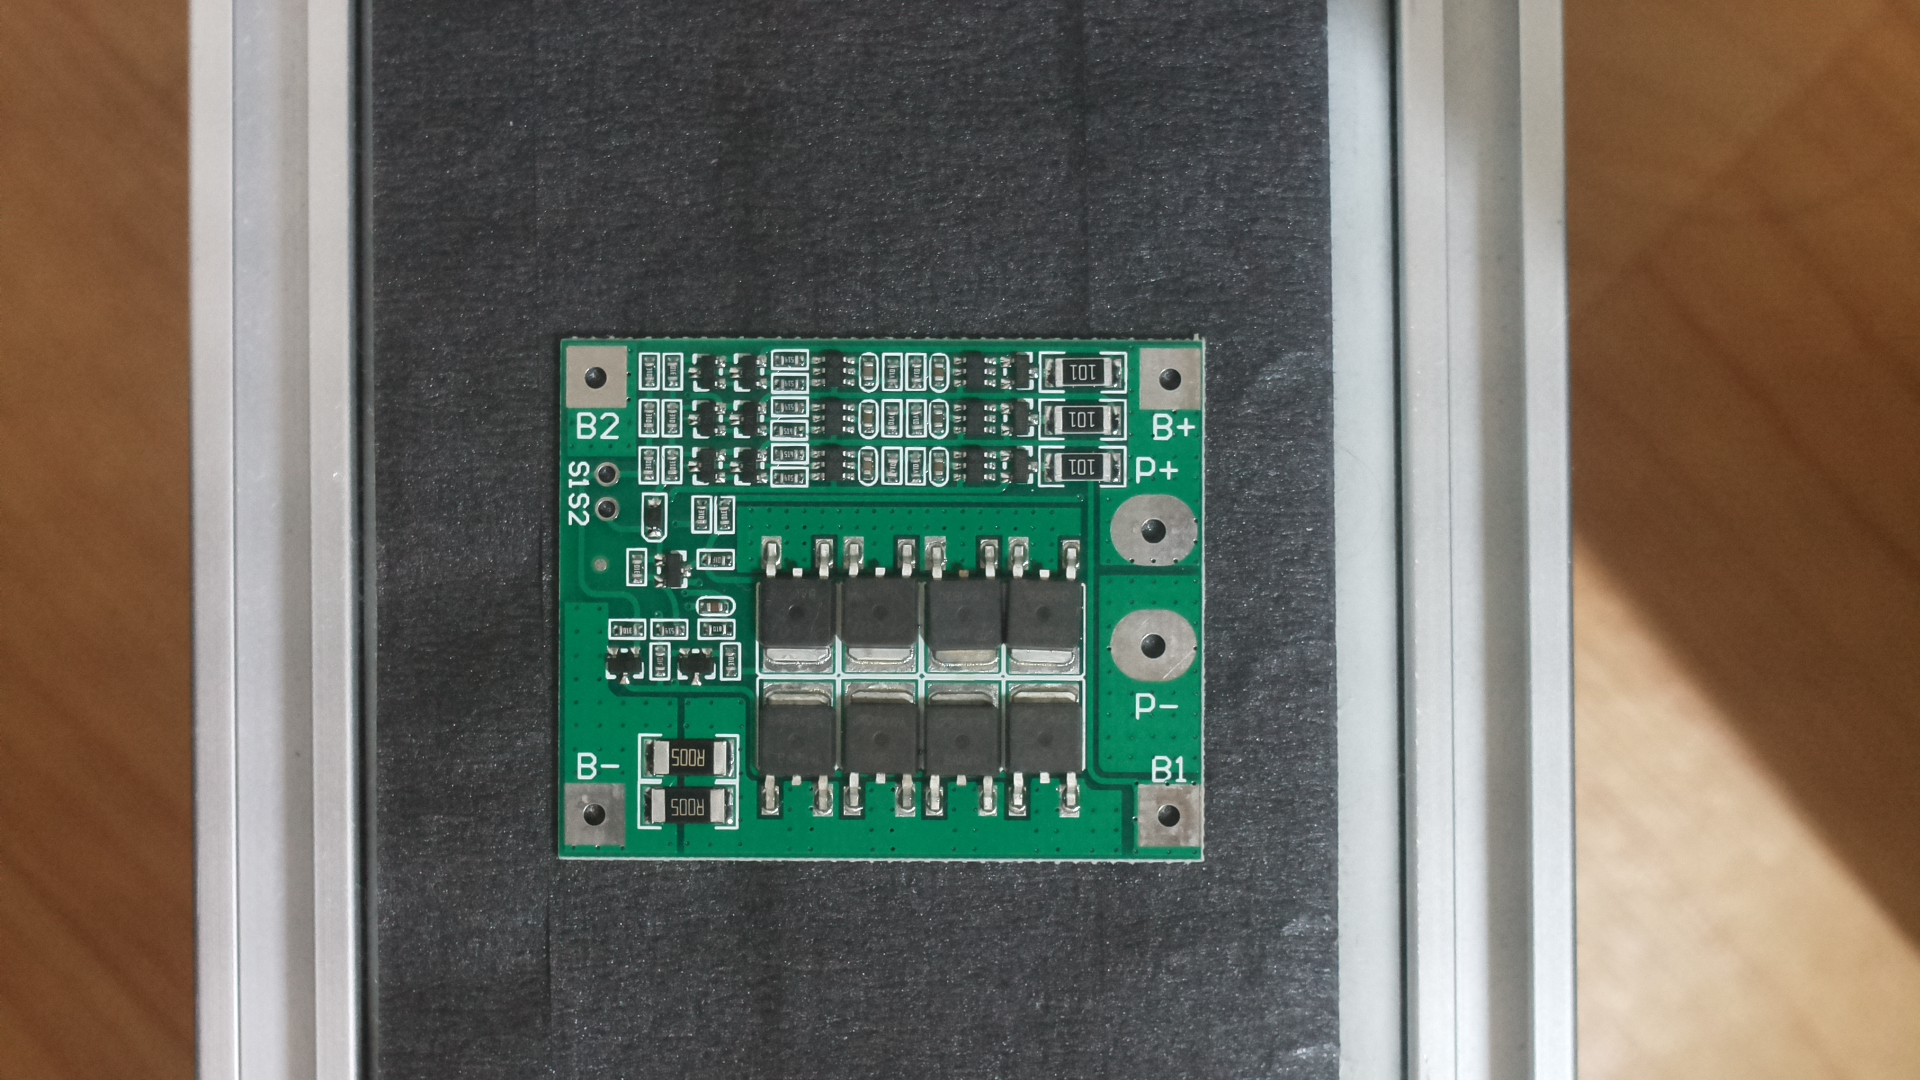C_Normal: (547, 327, 1222, 882)
